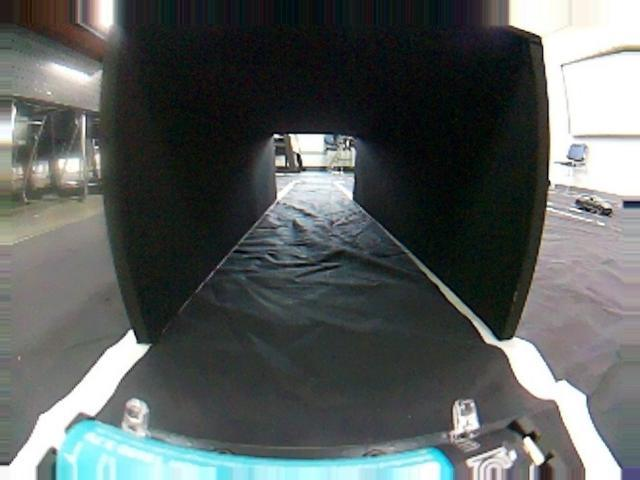straight: (0, 184, 640, 471)
